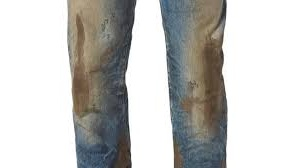earth: (202, 46, 225, 132), (72, 17, 89, 114), (199, 1, 223, 44), (71, 2, 99, 17), (119, 142, 129, 168), (183, 95, 197, 112), (98, 47, 112, 63), (175, 144, 180, 168)
